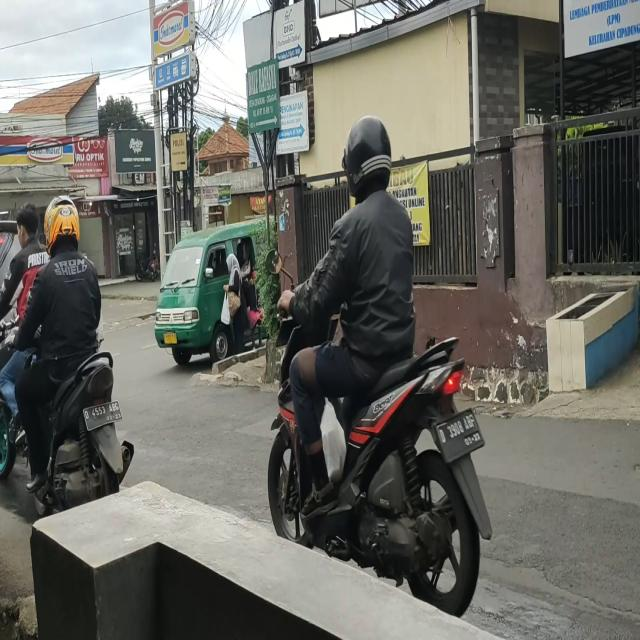helmet: (347, 116, 390, 202), (46, 198, 80, 256)
no-helmet: (17, 202, 39, 245)
